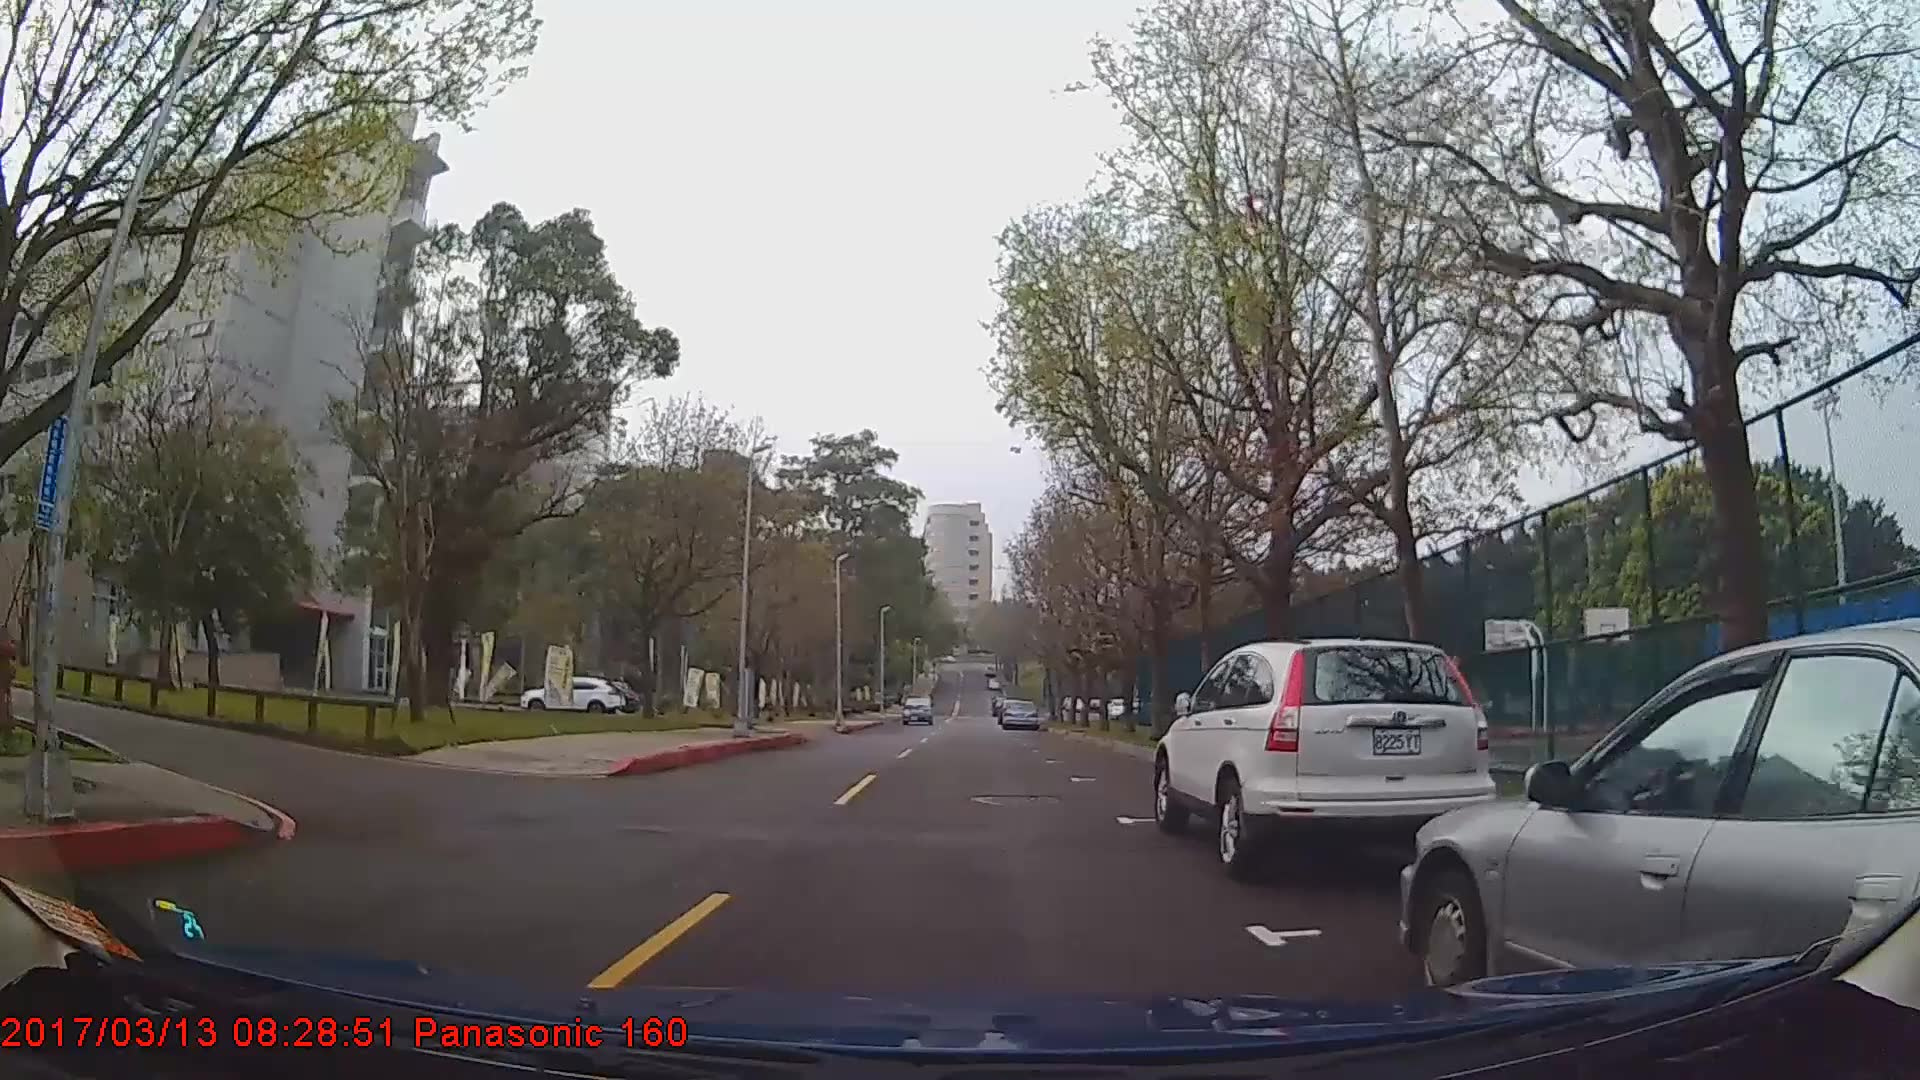vehicle: (1400, 617, 1919, 1002), (1150, 638, 1497, 870), (516, 674, 624, 713), (1000, 698, 1039, 729), (898, 692, 936, 723)
